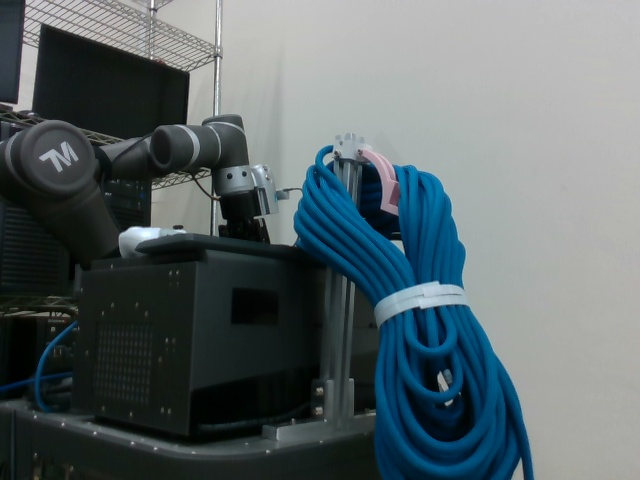rope: (293, 138, 539, 480)
